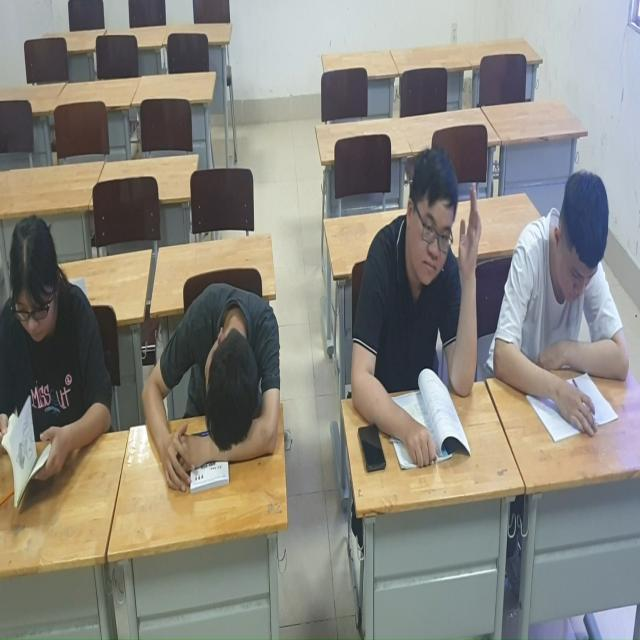sleep: (143, 283, 283, 475)
study: (347, 150, 480, 465), (495, 168, 627, 428), (2, 212, 113, 485)
